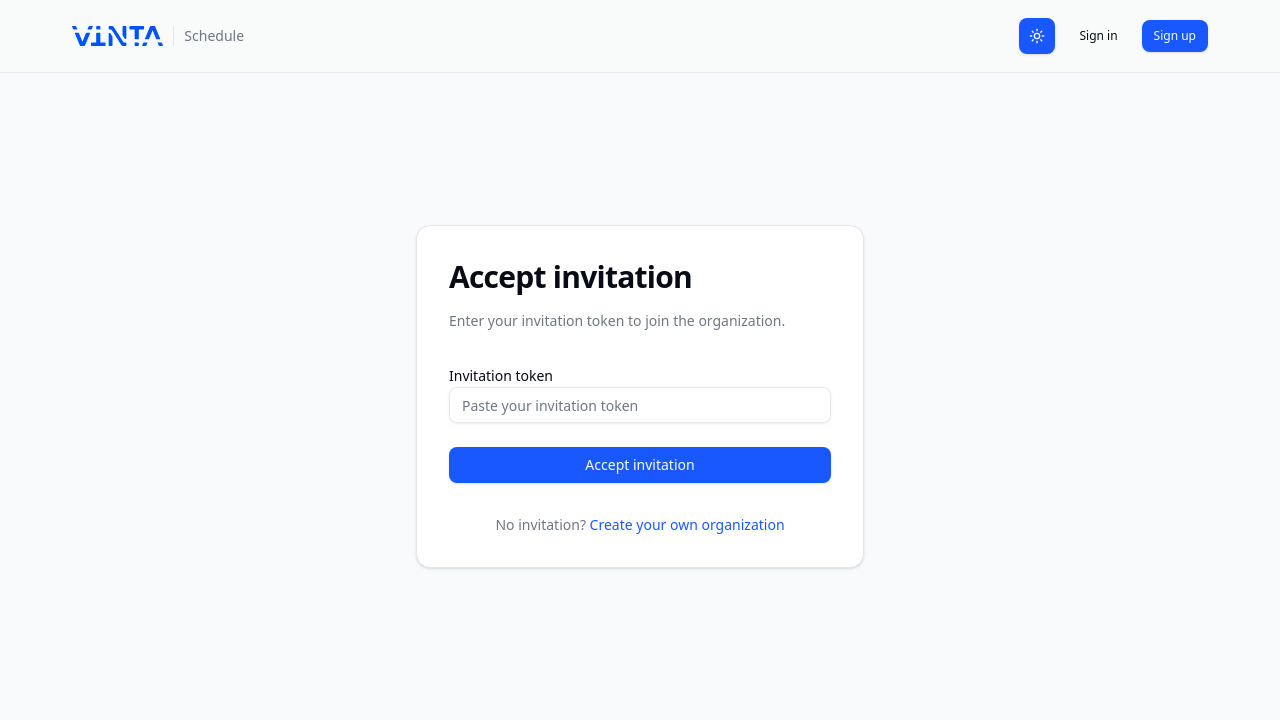
Scenario: AcceptInvitePage › blocks submission when token is empty (client-side validation)
Click the button "Accept invitation": (640, 465) [449,447,831,483]
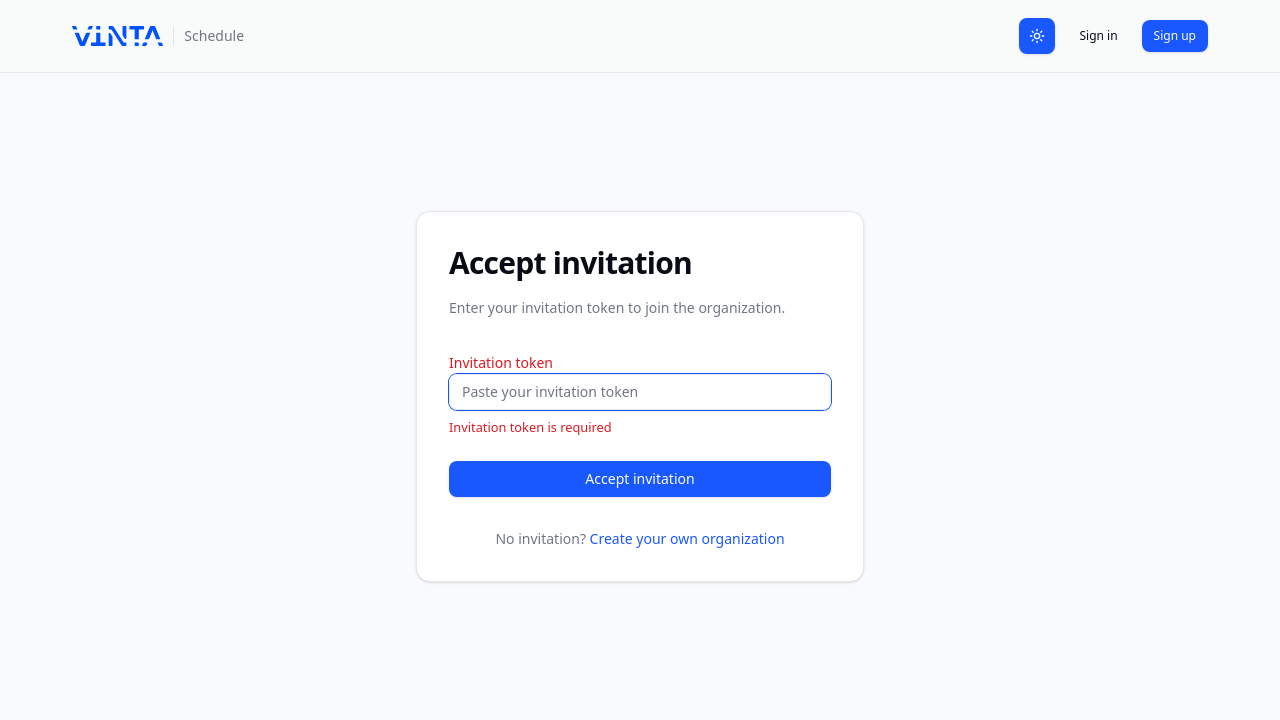
Expected: the text "Invitation token is required" is shown, [449,418,612,436]
